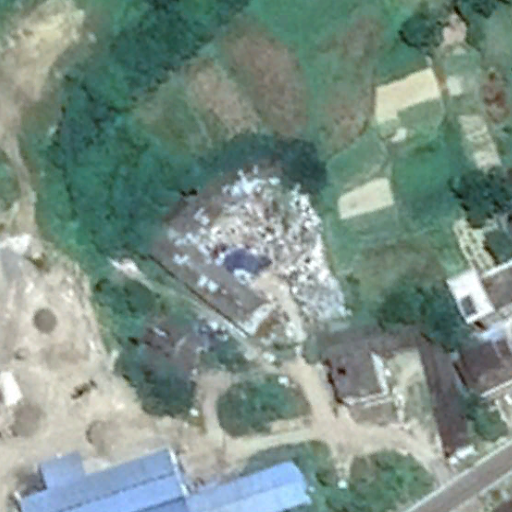msw: (180, 171, 348, 338)
